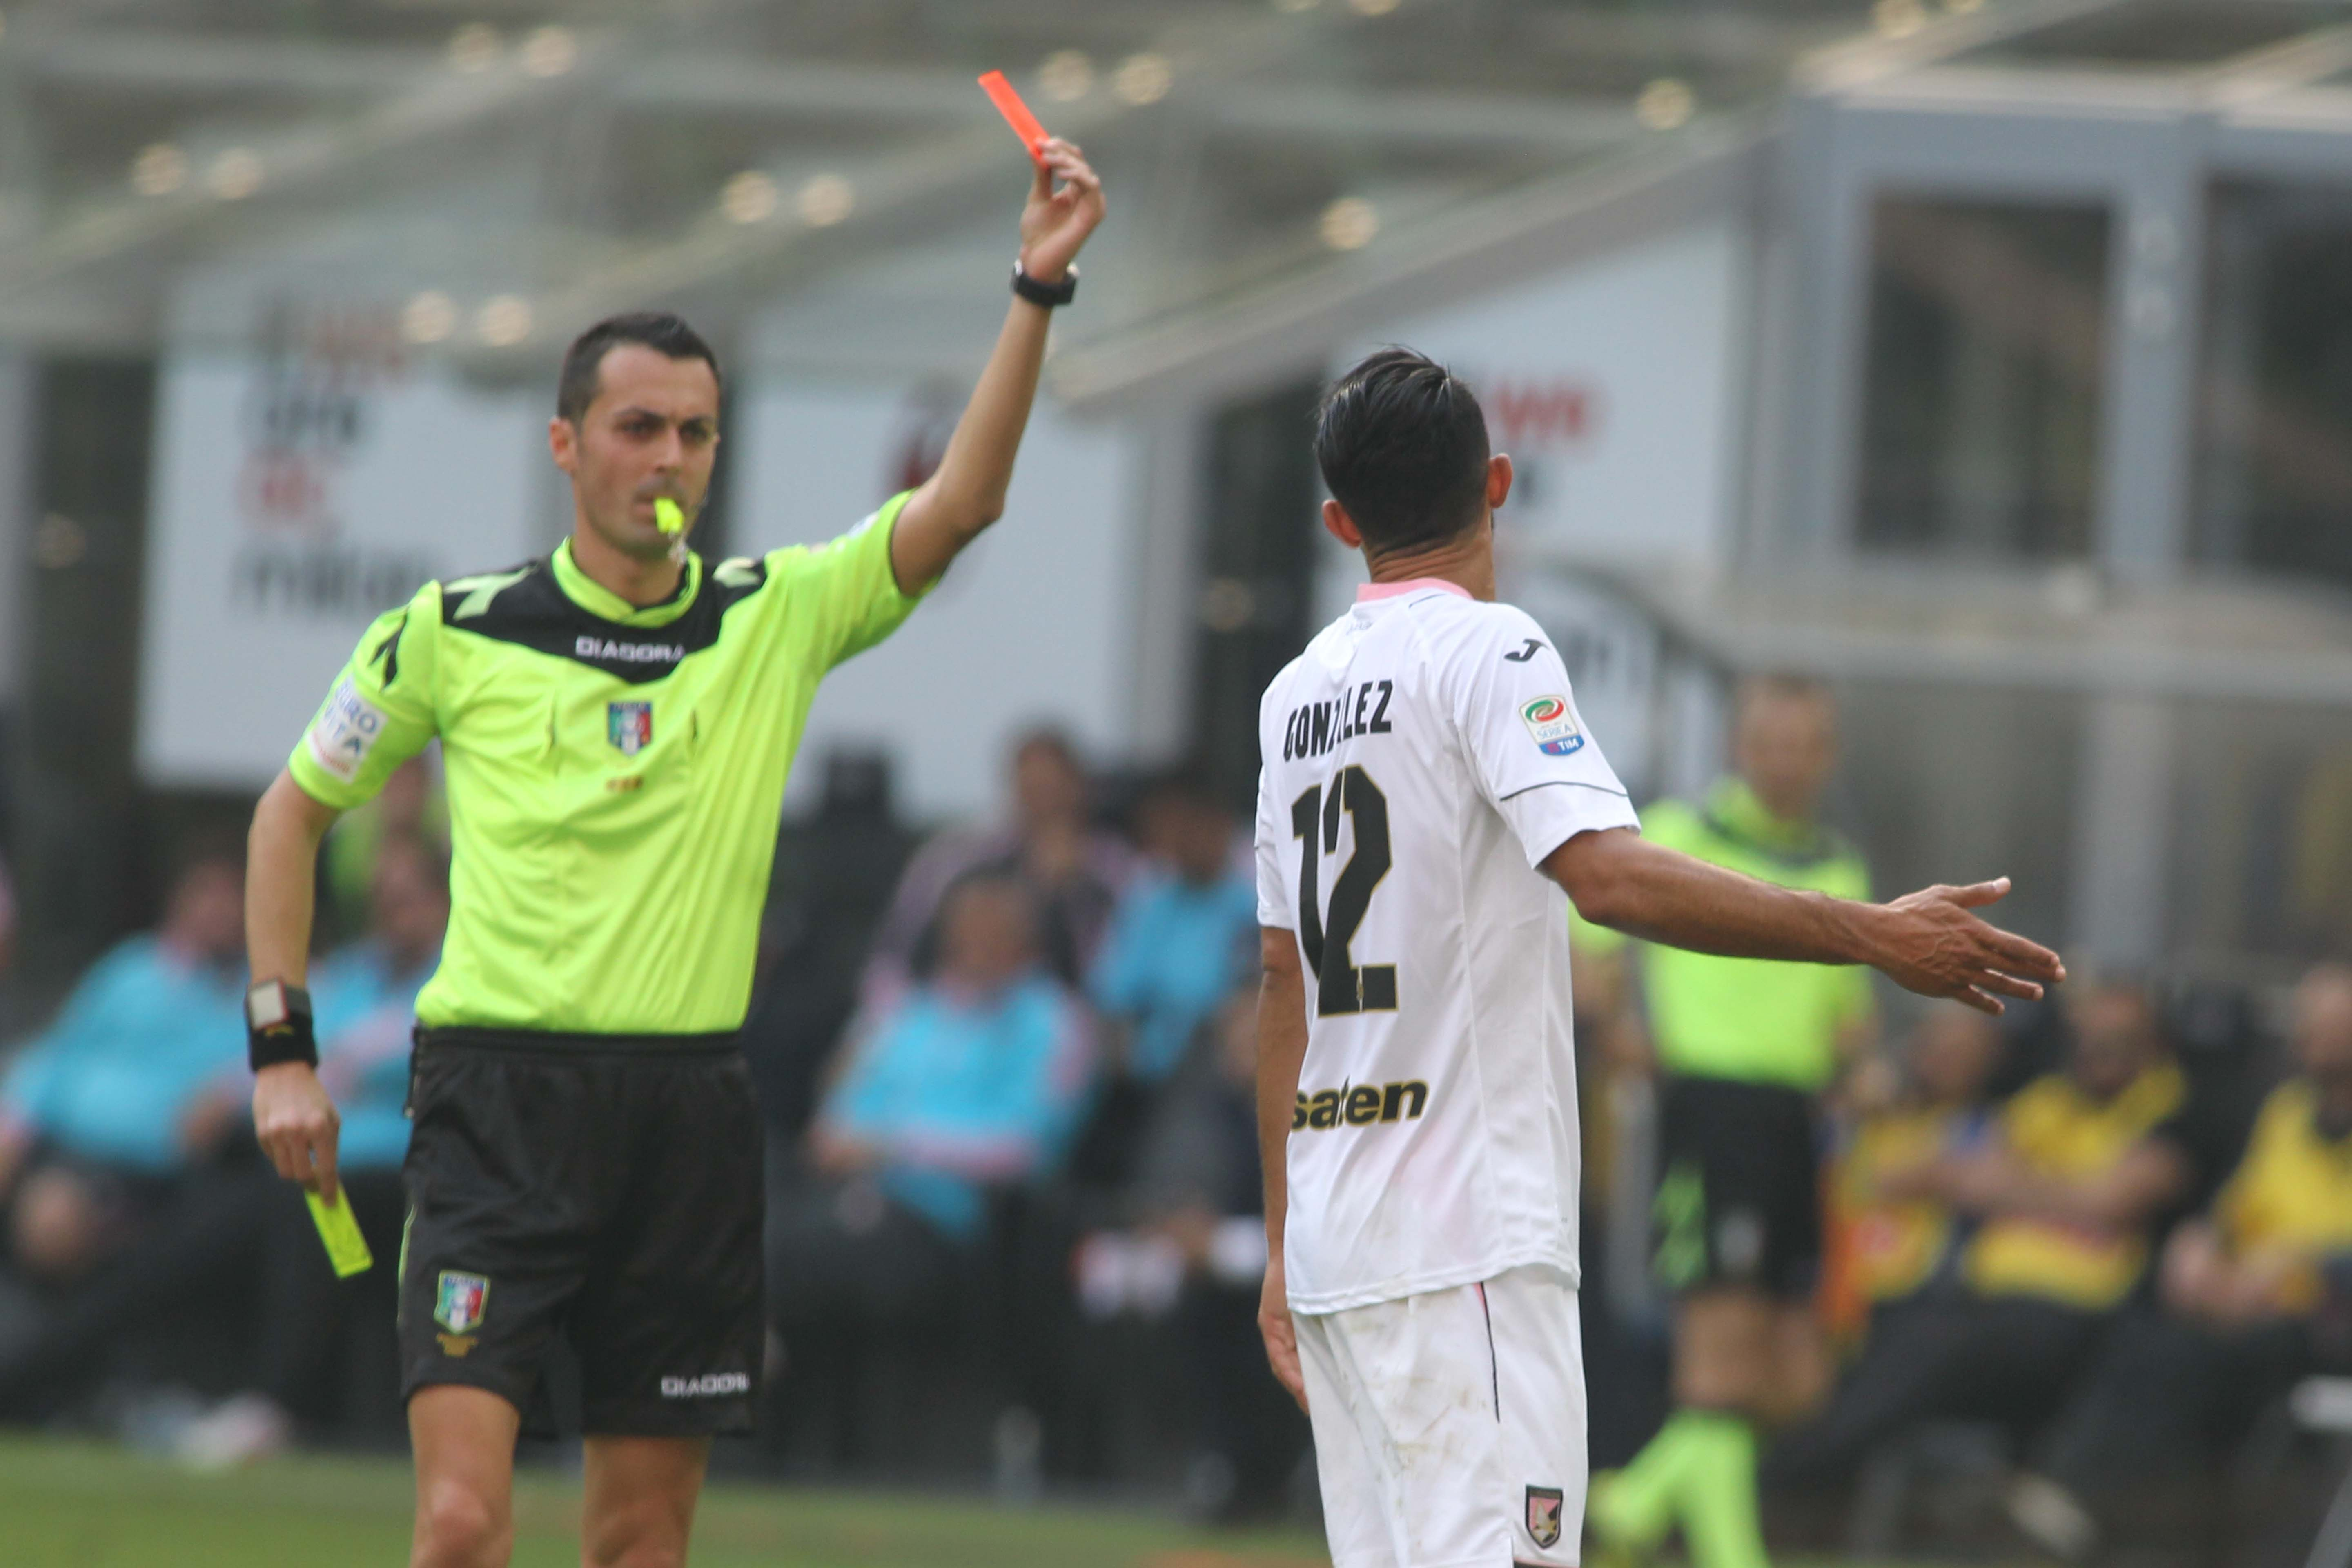red_card: (908, 61, 1130, 282)
